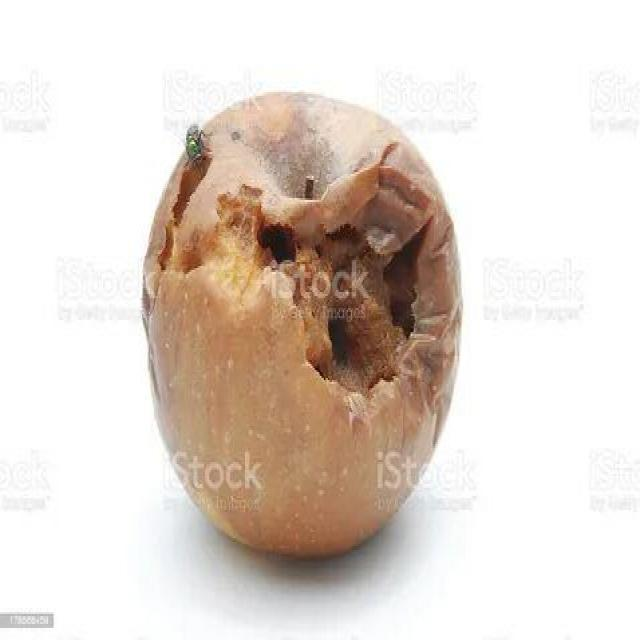Rotten: (150, 84, 447, 564)
